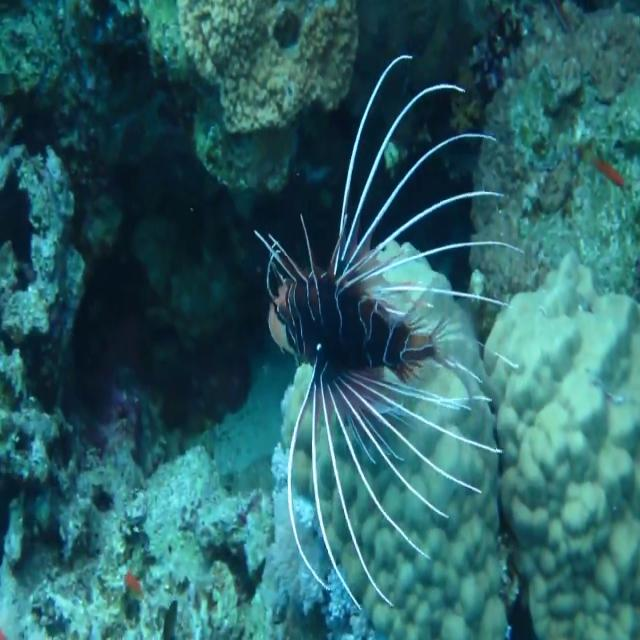Aslan Baligi: (252, 52, 524, 615)
